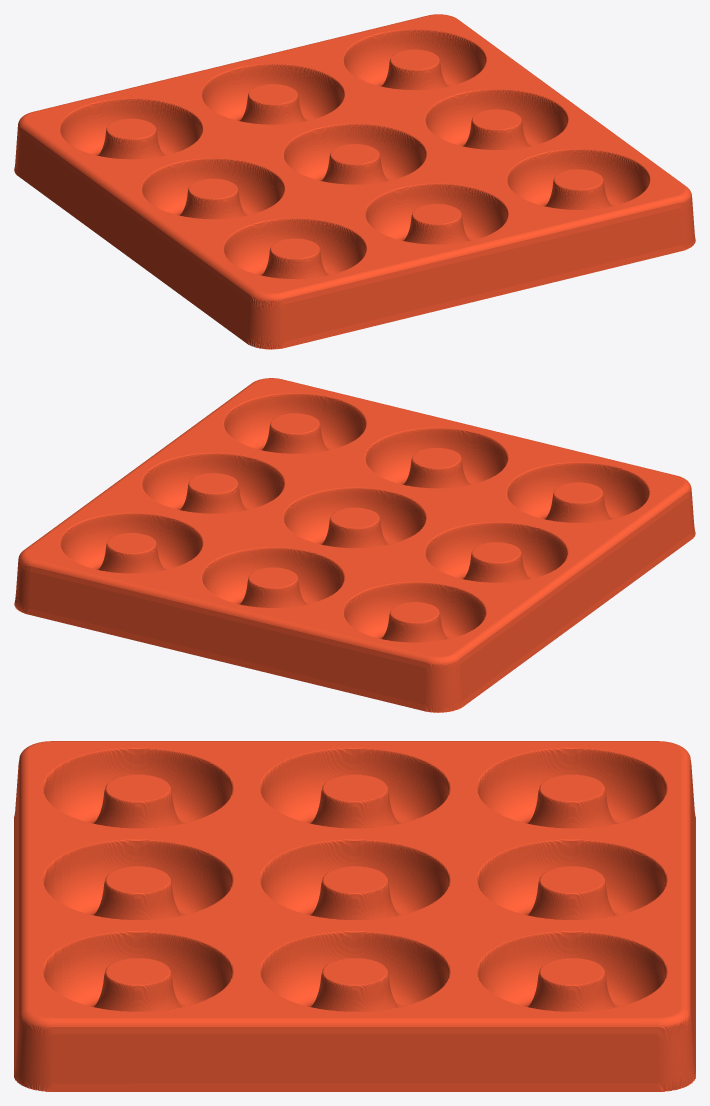
Rendered from mold.glb.
3 views of the same model, one above another, from view 1: azimuth 30°, elevation 25°; view 2: azimuth 150°, elevation 25°; view 3: azimuth 270°, elevation 25° (orthographic). The views are drawn at different scales.
Parts seen in each view (by area): view 1: geometry_0; view 2: geometry_0; view 3: geometry_0.
Part boxes in pixels (x1,y1,x2,y2): geometry_0: (14, 14, 695, 349); geometry_0: (14, 378, 695, 712); geometry_0: (14, 741, 695, 1091).
Bounding box in the file's own units: 0.1621 × 0.0178 × 0.1621.
